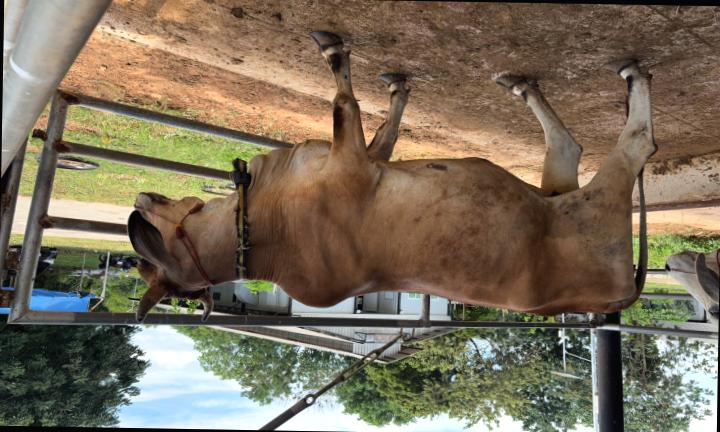Brahman: (127, 33, 656, 322)
